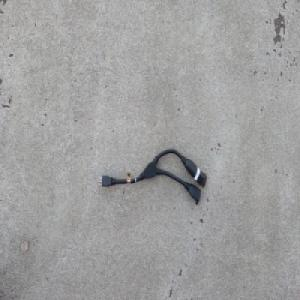Wire: (97, 147, 207, 206)
